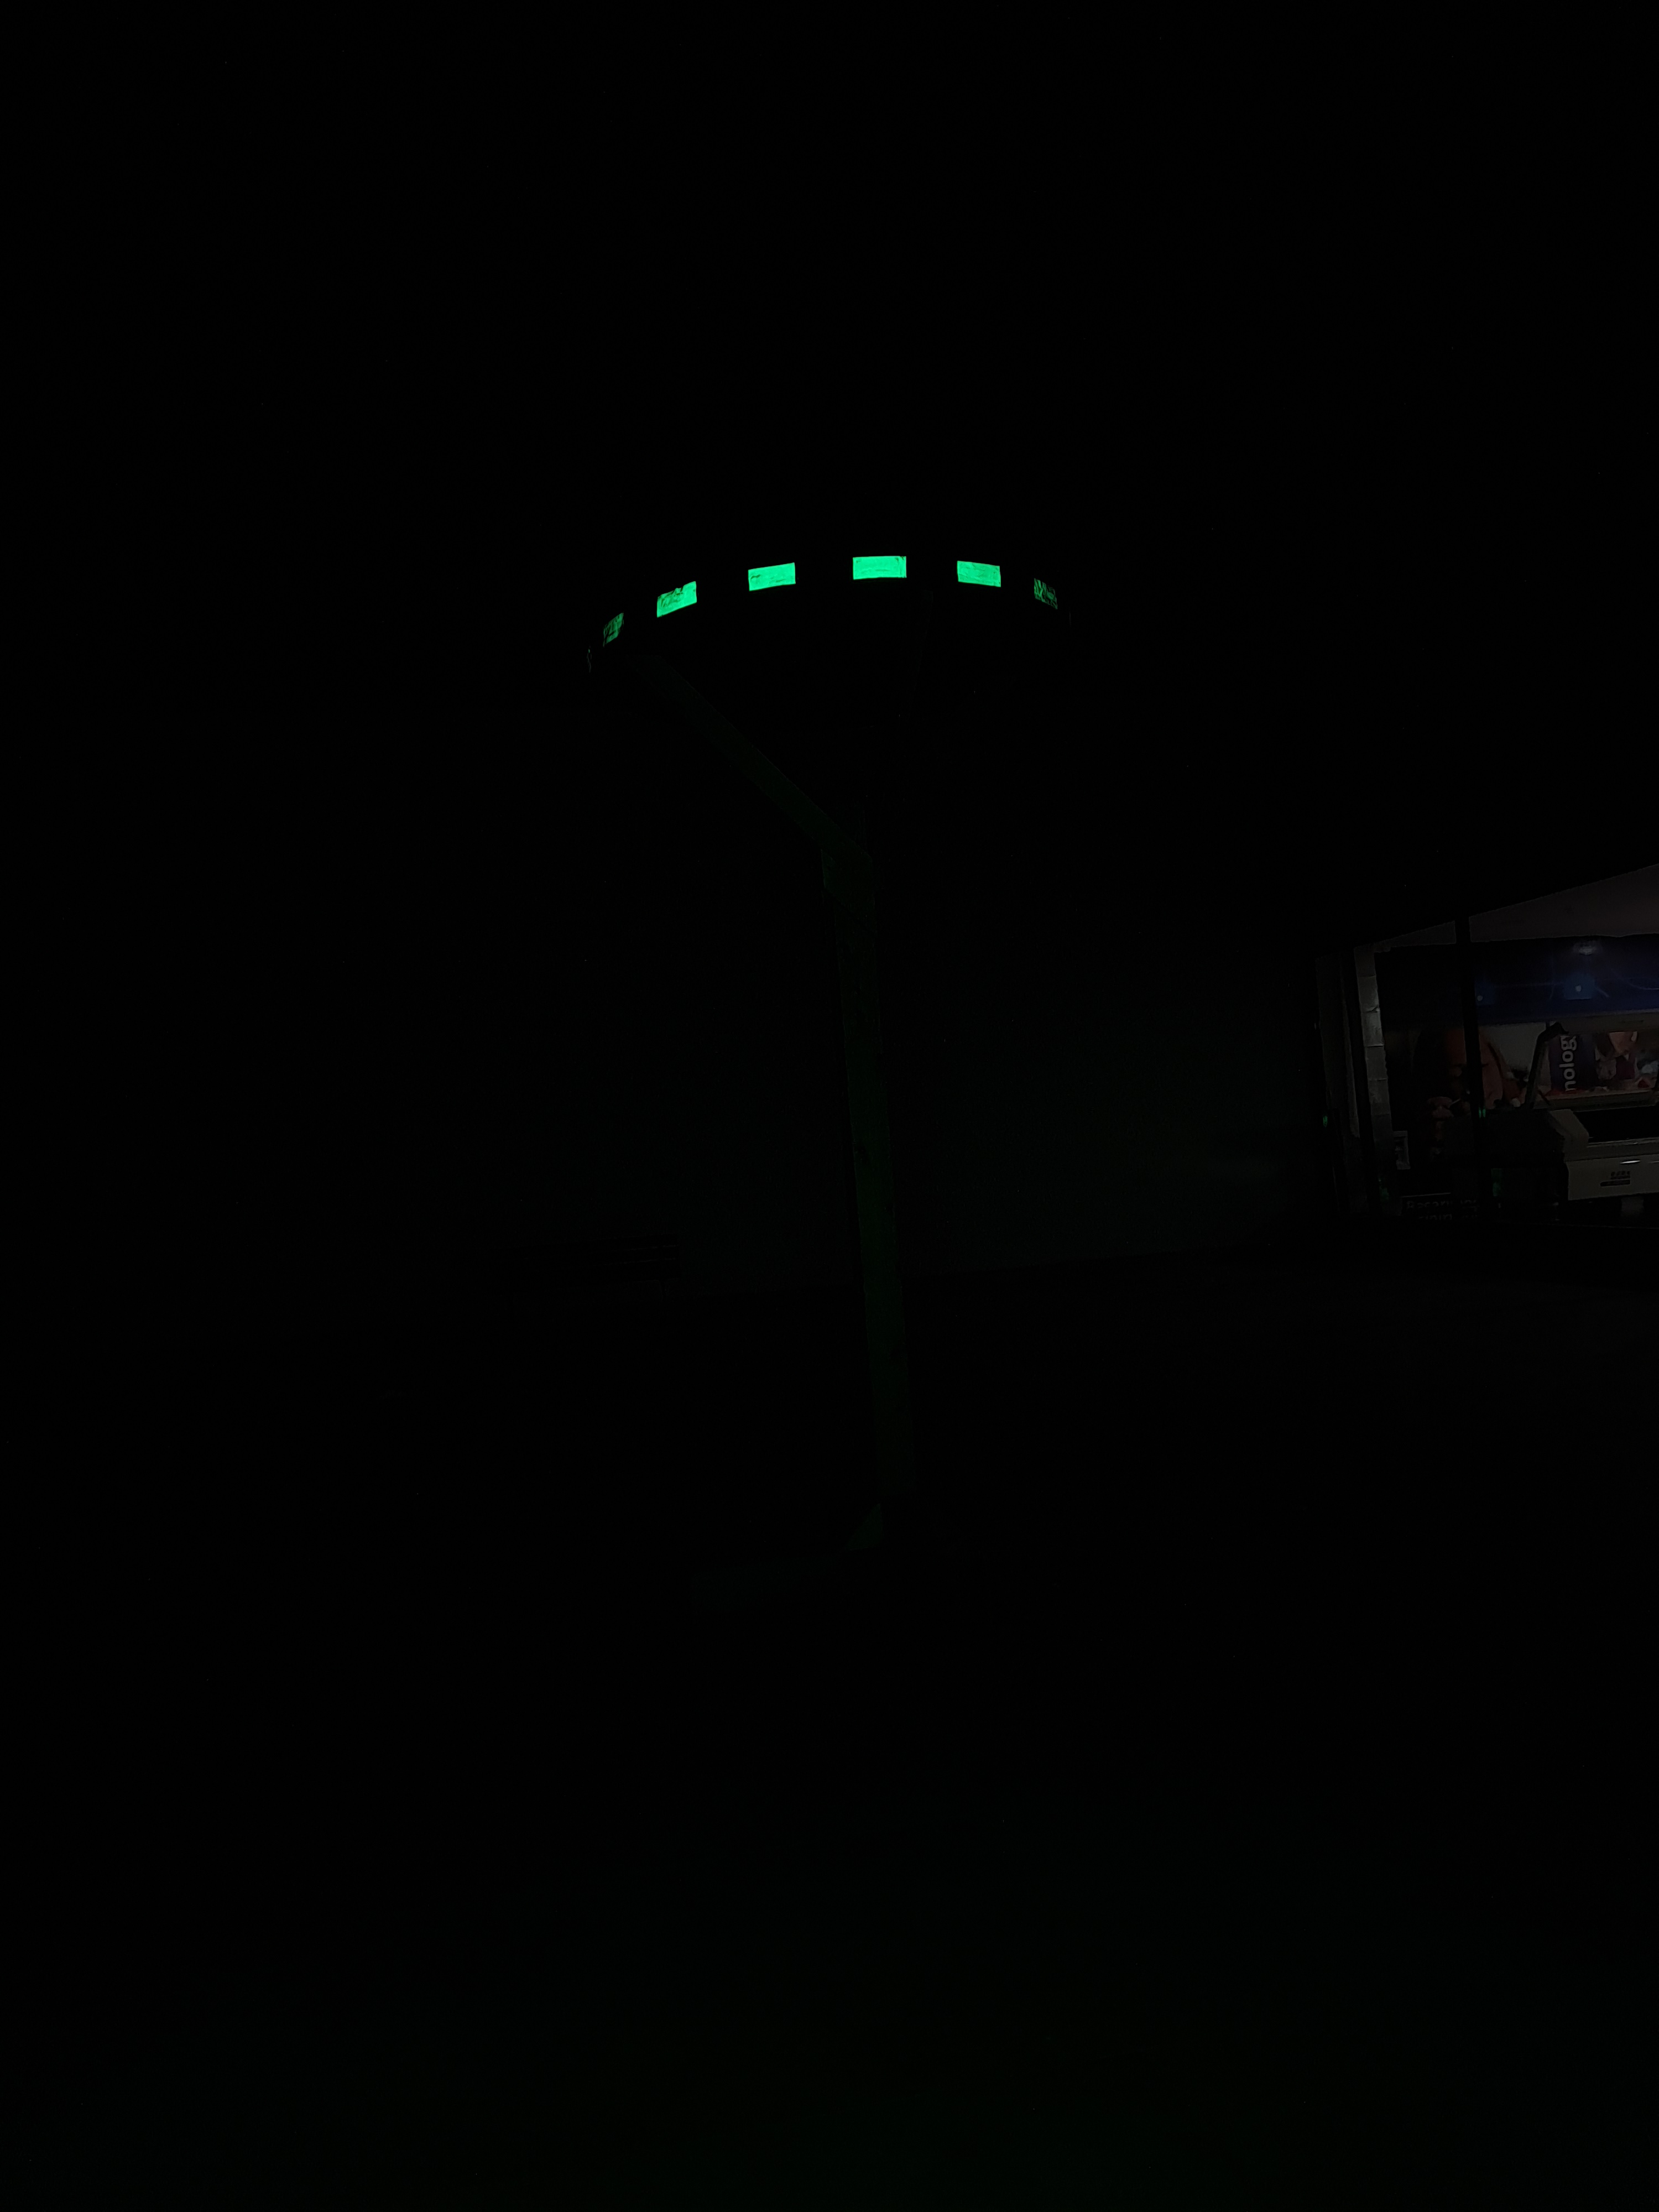hoop: (559, 557, 1112, 660)
